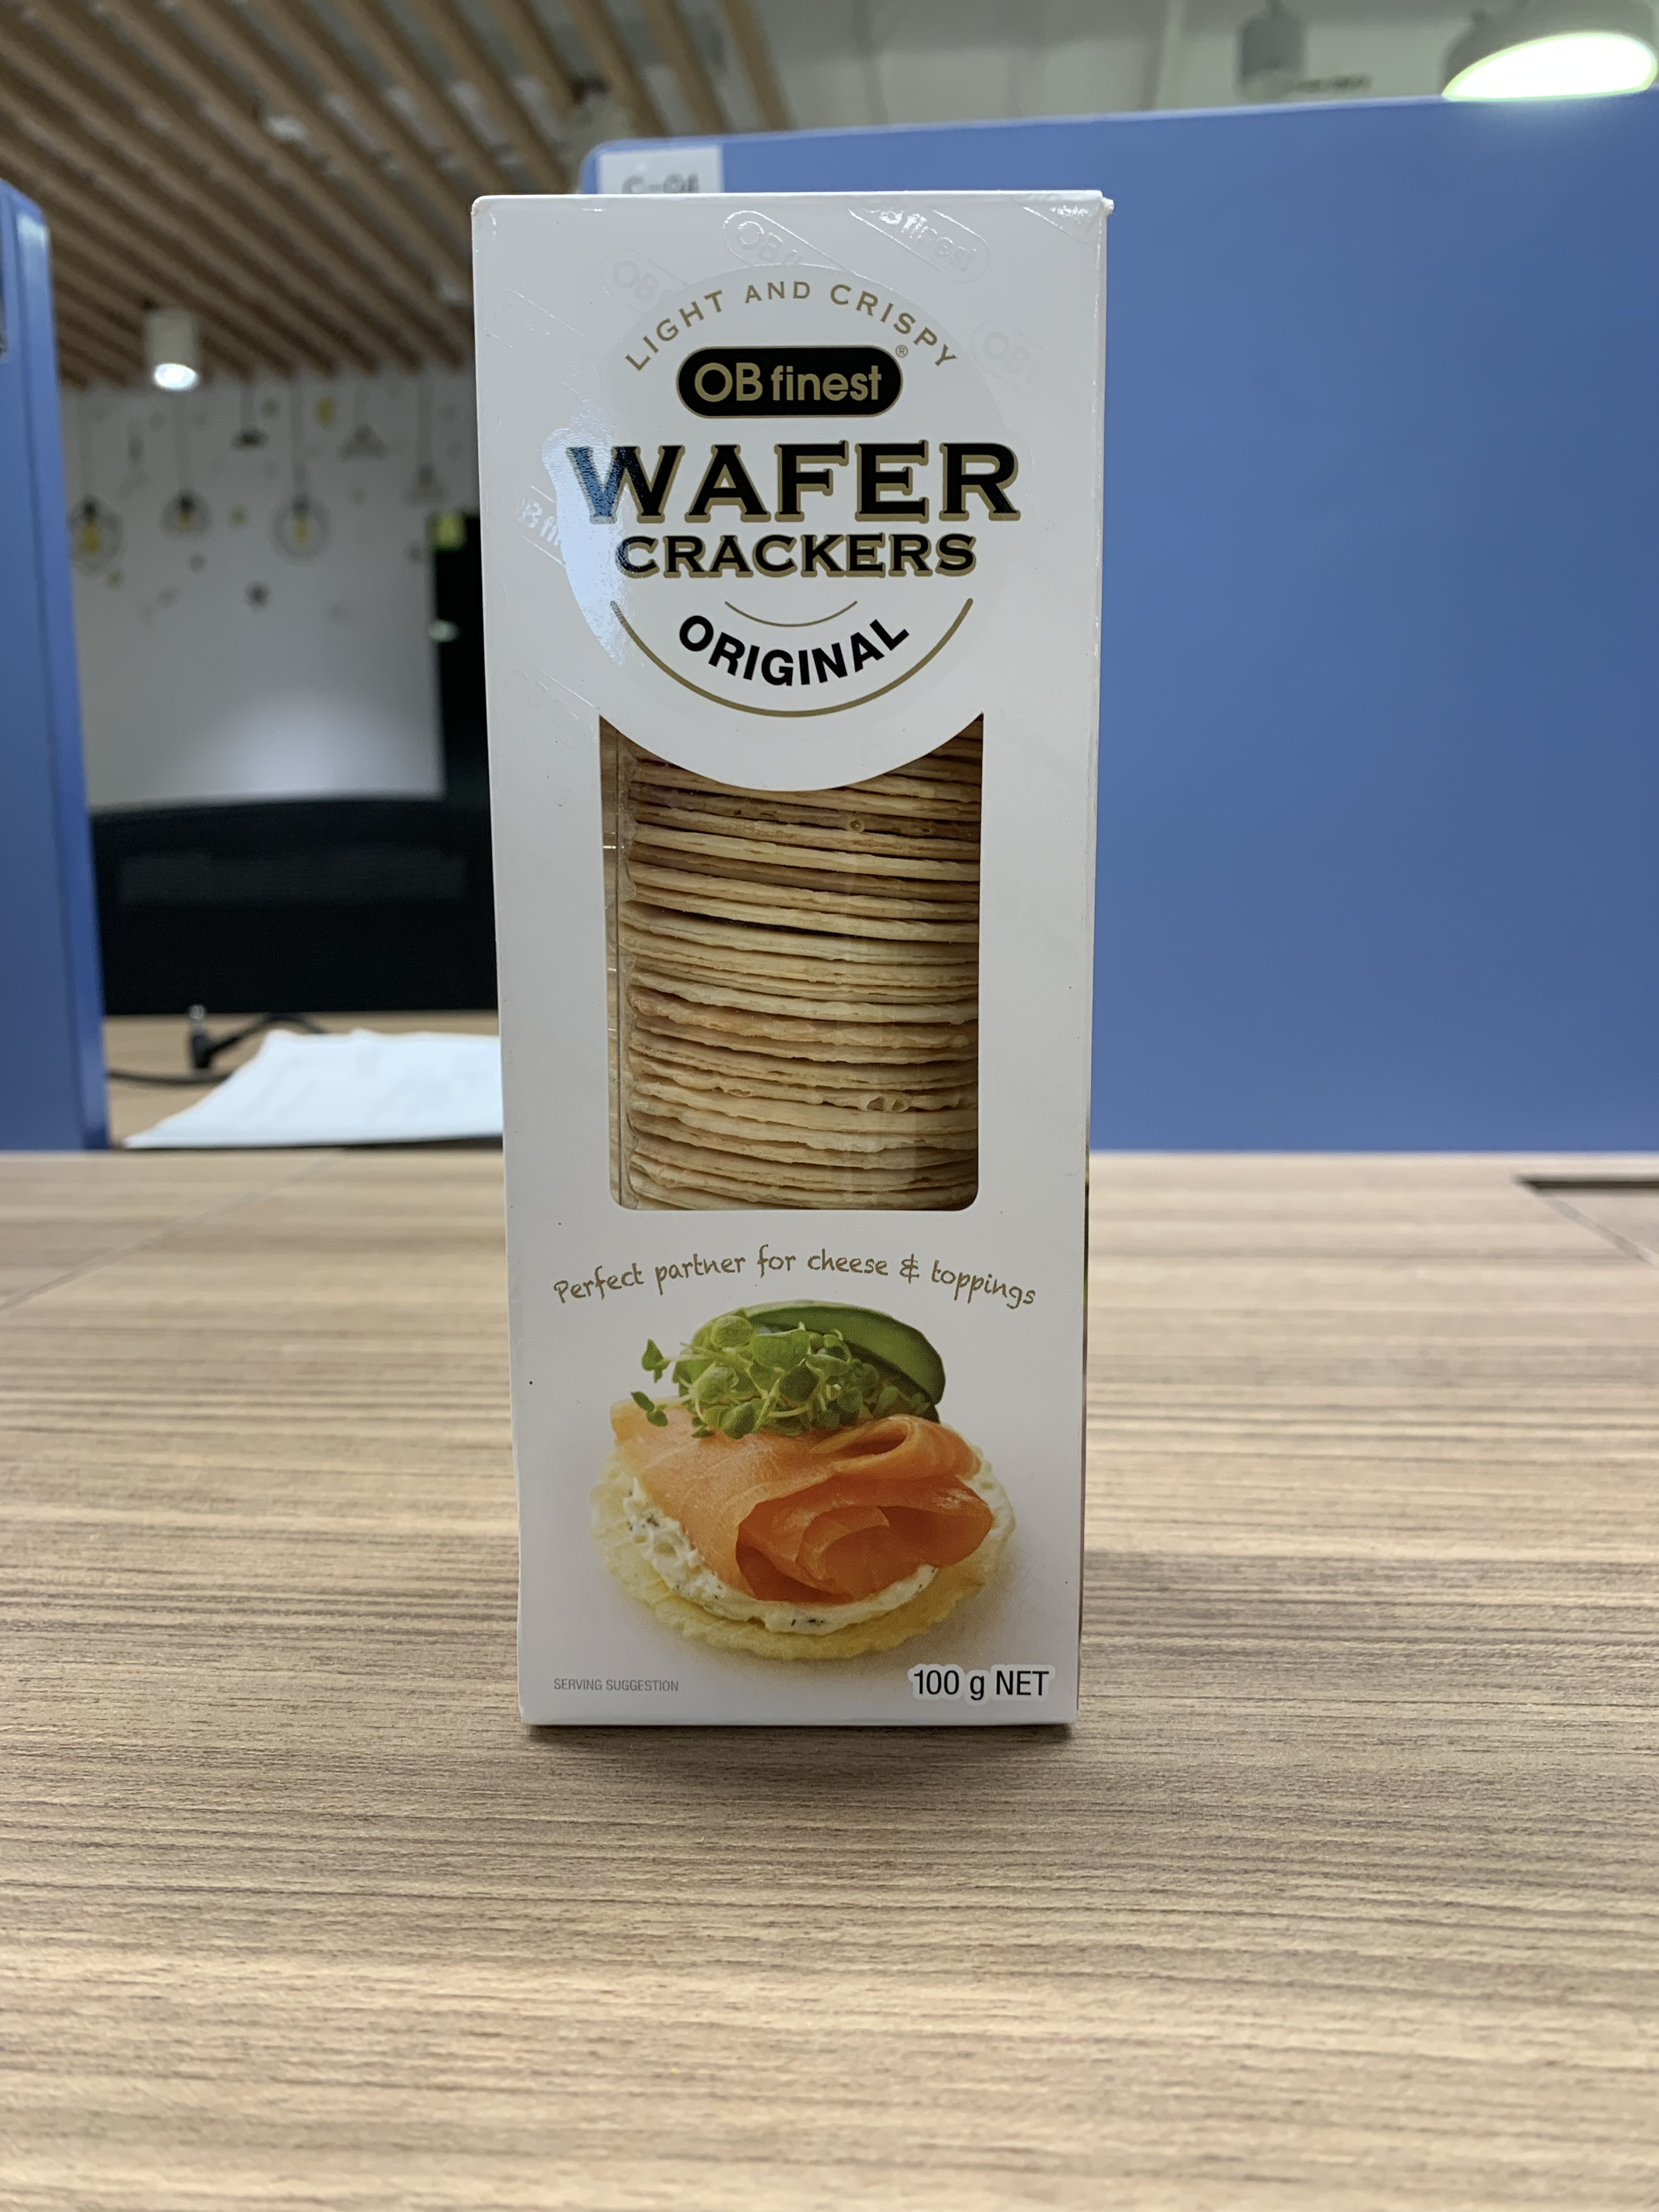crackers_100g-199g: (509, 218, 1080, 1723)
